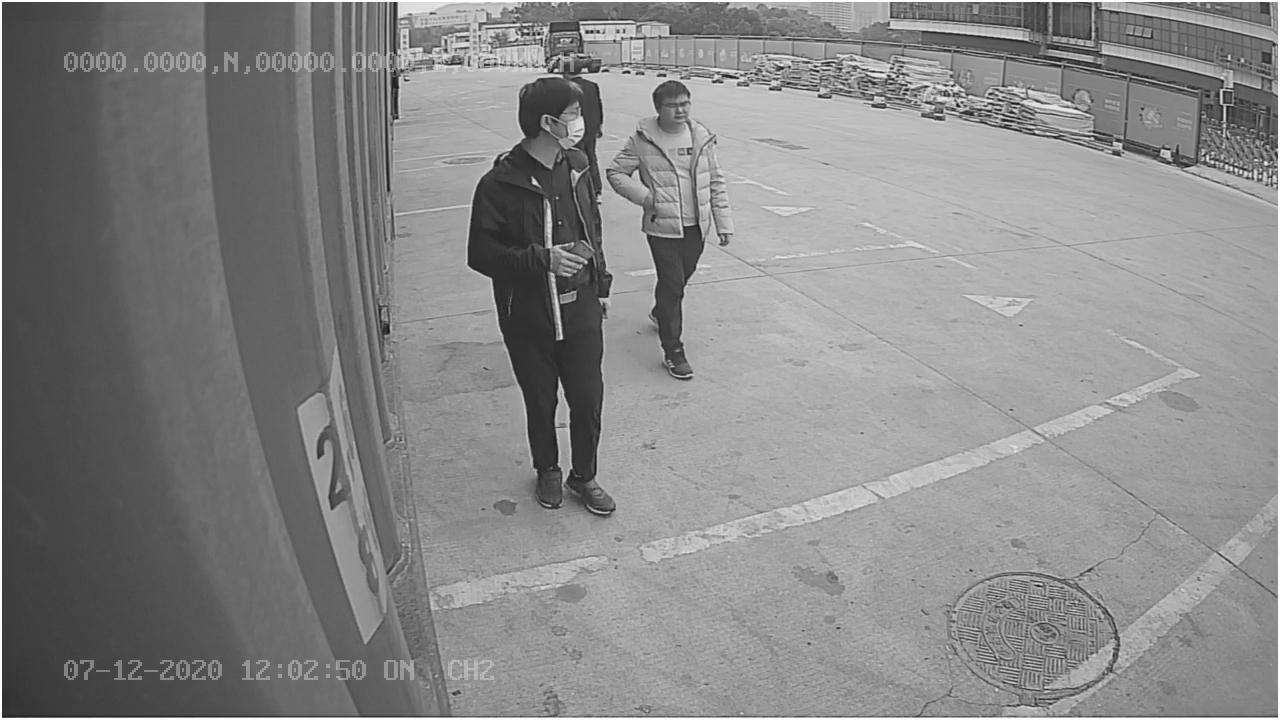person: (465, 76, 613, 516)
